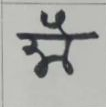au_matra: (44, 12, 79, 60)
